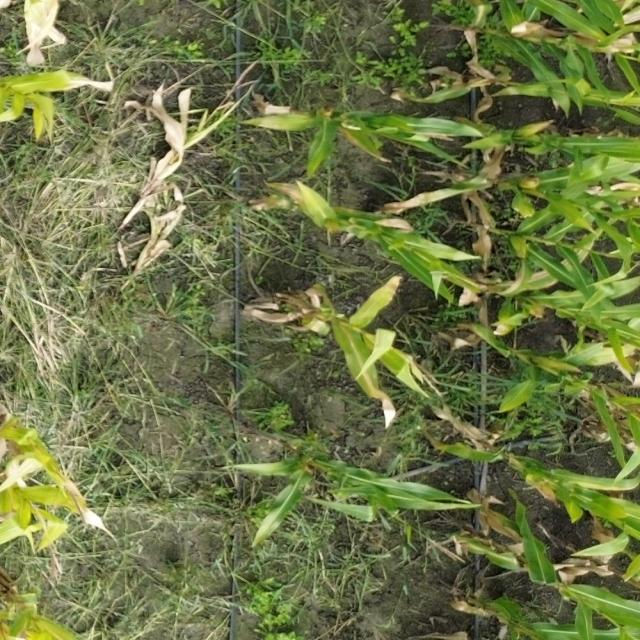gray-leaf-spot: (512, 453, 612, 530)
northern-leaf-blight: (325, 274, 437, 414)
